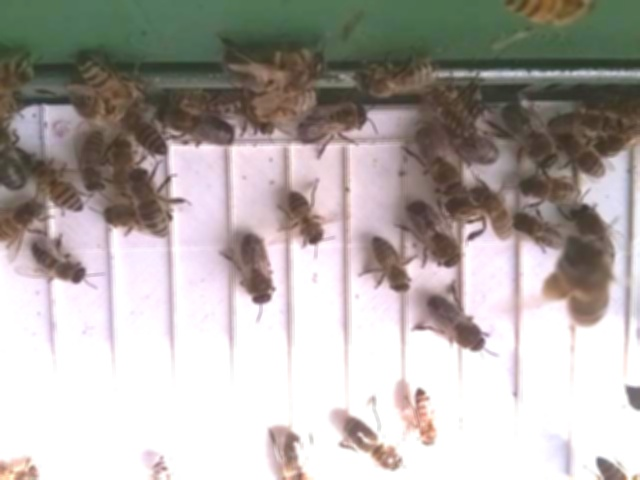Drone: (405, 199, 465, 275), (154, 100, 239, 152), (501, 101, 561, 173), (424, 291, 489, 357), (411, 120, 462, 202), (342, 413, 407, 476), (296, 101, 372, 148), (237, 231, 275, 309)
Worker: (128, 164, 171, 241), (30, 160, 87, 214), (470, 181, 518, 244), (367, 236, 414, 296), (34, 240, 89, 286), (518, 172, 582, 210), (287, 188, 325, 251), (514, 213, 570, 255), (122, 111, 170, 158), (410, 386, 444, 449), (79, 130, 111, 196), (0, 200, 44, 244)
